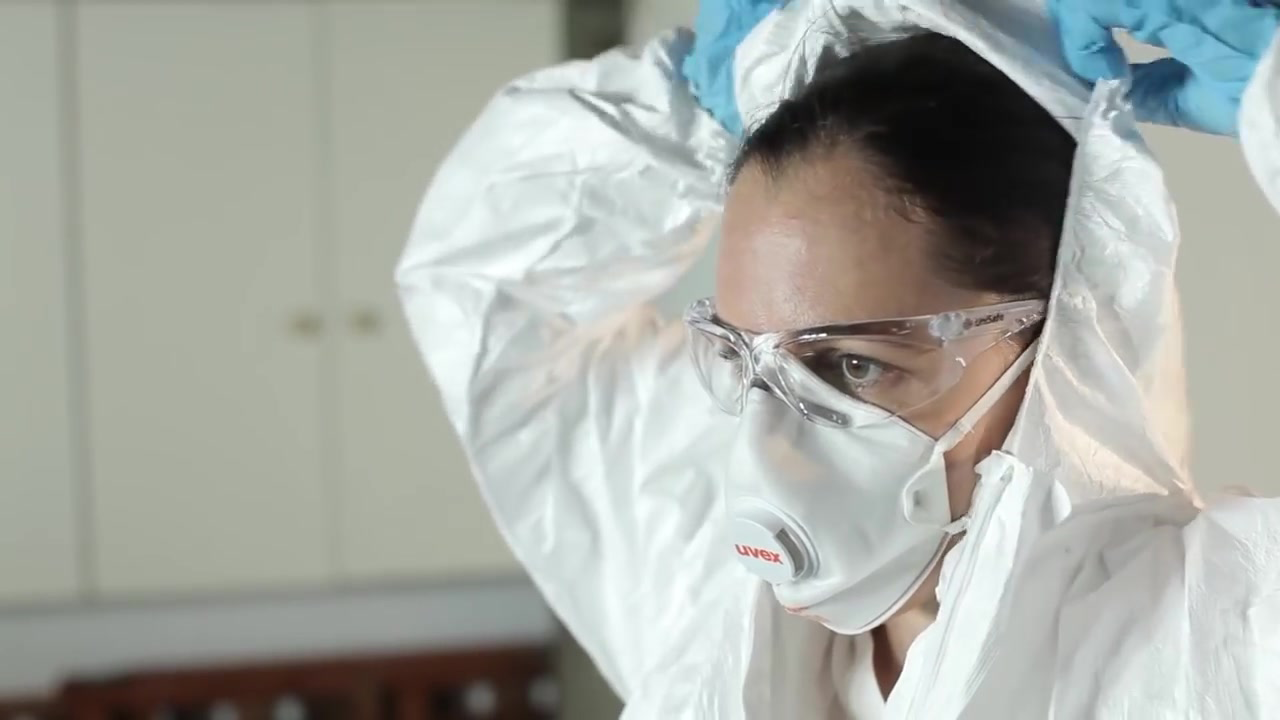Coverall: (384, 55, 1280, 720)
Goggles: (668, 294, 1040, 427)
with_mask: (708, 359, 982, 637)
